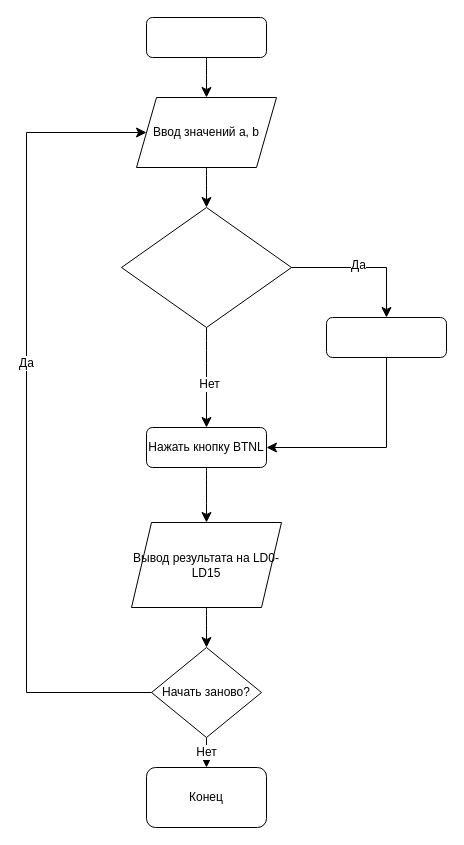
This 464x845 diagram has some shape labels left out. Here are the shapes that lost their labels. From the top down, the centre of each, then its label:
the point at 206,37: Начало
the point at 206,267: Есть ли предыдущий результат y?
the point at 386,337: Нажать кнопку сброса BTNR
